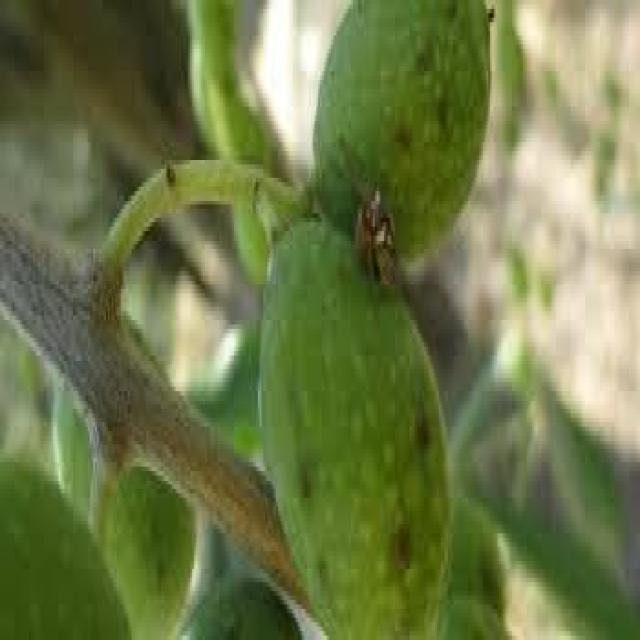Anthracnose: (258, 214, 448, 636), (310, 0, 498, 274)
